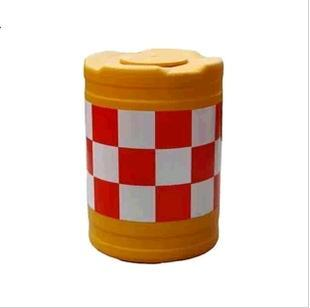sign: (77, 44, 231, 264)
